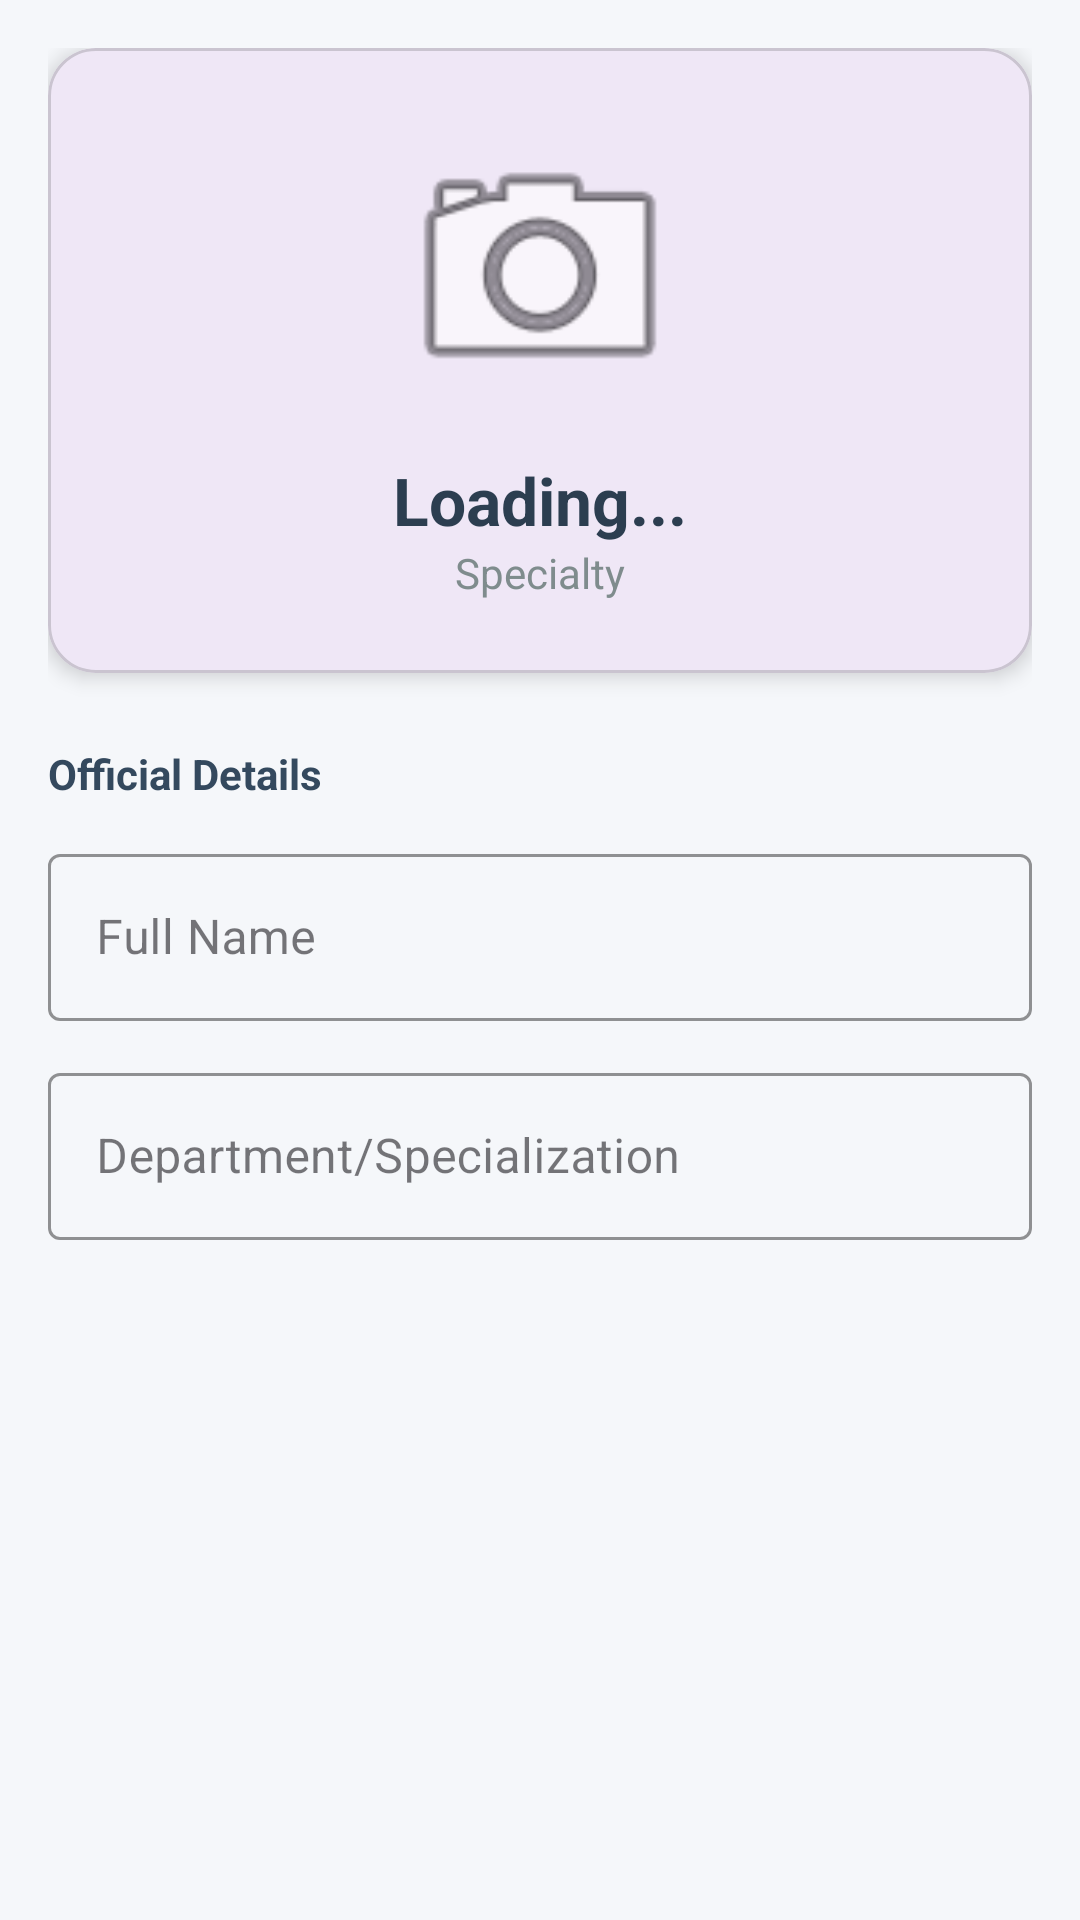

Icons on this 1080x1920 Android screen, each with its box as {"left": x1, "top": y1, "right": x2, "bottom": y2}:
camera: {"left": 423, "top": 172, "right": 657, "bottom": 359}
